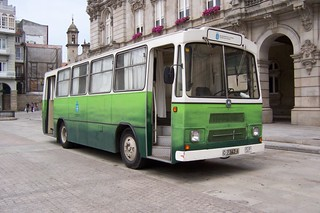bus: (41, 26, 264, 168)
